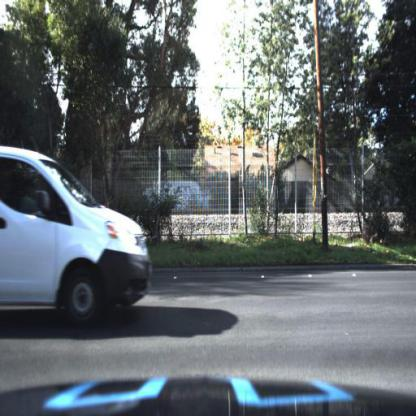car: (3, 141, 157, 333)
